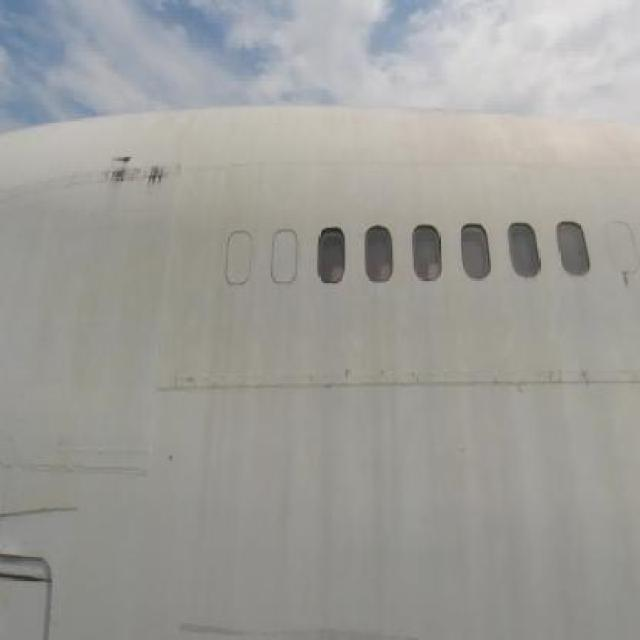Rust: (90, 142, 192, 205), (622, 272, 632, 292)
